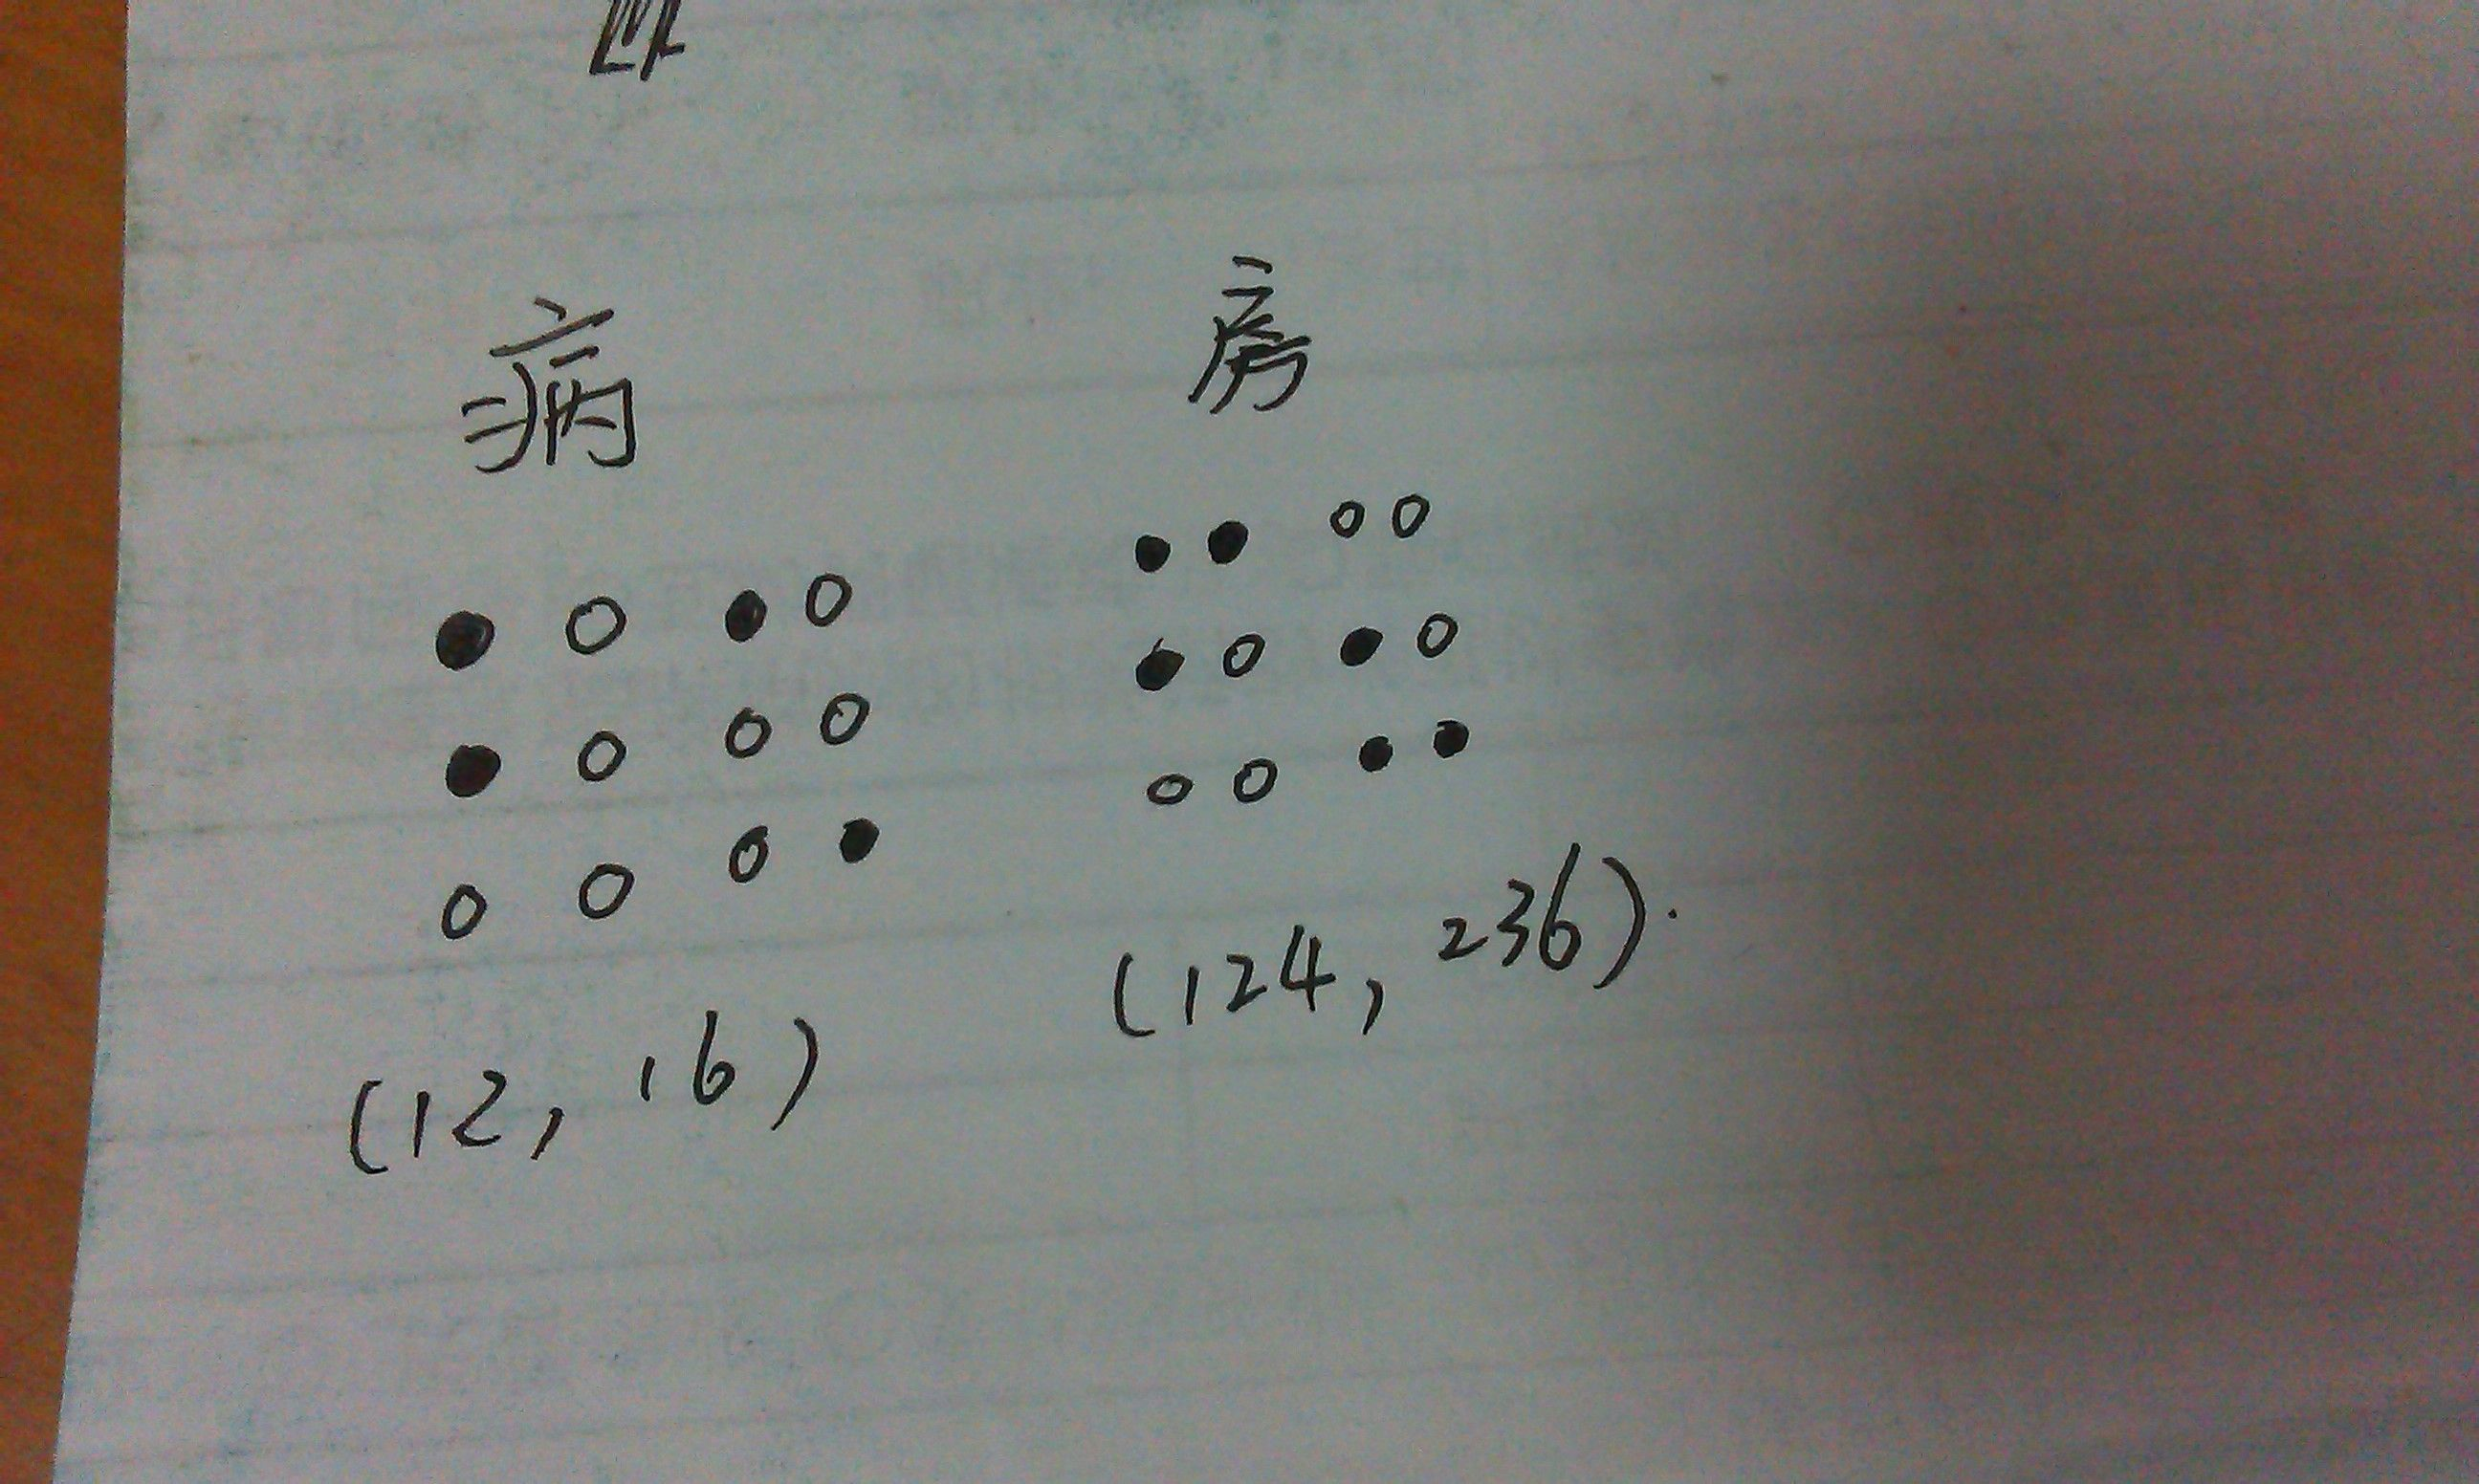Braille: (436, 569, 645, 947), (719, 558, 898, 896), (1120, 500, 1290, 814), (1329, 479, 1477, 779)
